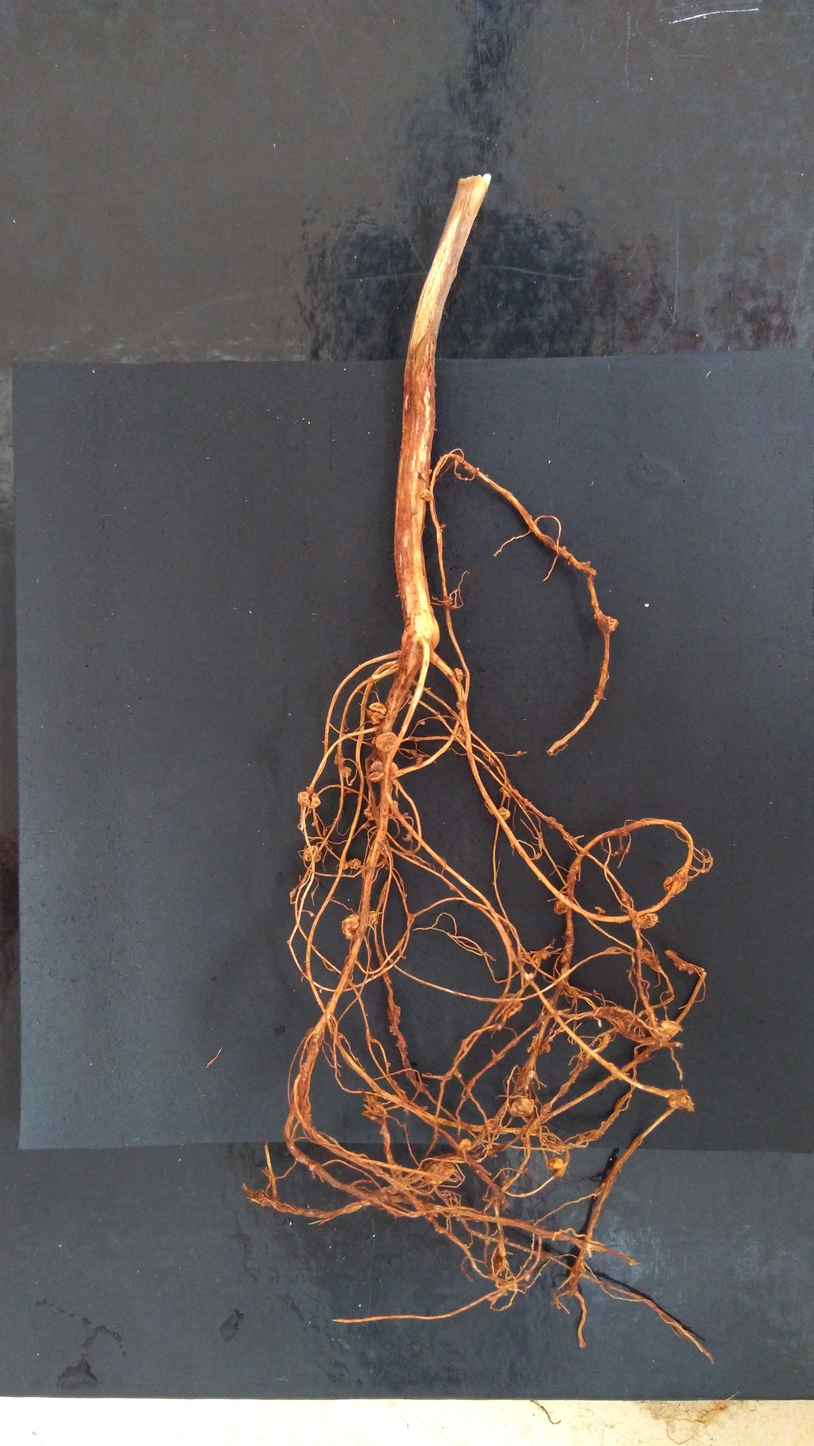nodule: (422, 1161, 456, 1185), (508, 1097, 533, 1117), (341, 914, 360, 940), (375, 731, 398, 752), (500, 997, 523, 1018), (663, 874, 687, 894), (367, 702, 387, 725), (660, 1020, 681, 1041), (491, 1249, 506, 1274), (668, 1091, 688, 1109), (368, 760, 384, 782), (531, 1036, 551, 1052), (637, 913, 658, 928), (304, 845, 321, 863), (364, 805, 380, 821), (554, 896, 568, 914), (307, 792, 321, 809), (547, 1157, 564, 1171), (387, 1005, 401, 1022), (496, 806, 511, 821), (297, 791, 311, 807), (605, 616, 619, 632), (367, 911, 378, 929), (455, 726, 466, 743), (384, 763, 399, 775), (419, 489, 431, 502), (348, 858, 361, 870), (458, 1138, 471, 1150), (499, 786, 512, 797), (524, 1070, 535, 1083), (379, 843, 390, 855), (454, 668, 463, 682), (389, 1024, 399, 1035), (342, 766, 351, 778), (334, 756, 345, 765), (389, 800, 399, 809), (311, 1035, 320, 1043), (524, 1269, 530, 1281), (415, 757, 423, 765), (342, 861, 349, 870), (289, 889, 296, 898), (439, 524, 446, 532), (398, 1088, 406, 1094), (406, 832, 411, 841), (391, 1079, 397, 1086), (484, 1239, 490, 1246), (456, 455, 461, 463), (456, 702, 461, 710), (402, 812, 409, 817), (371, 738, 375, 746), (410, 750, 417, 754), (536, 852, 540, 859), (523, 798, 528, 803), (428, 469, 432, 475), (420, 721, 426, 725), (516, 750, 522, 754), (338, 1035, 344, 1039), (387, 1061, 391, 1066), (464, 477, 468, 481), (311, 822, 315, 826), (458, 1073, 462, 1077), (404, 893, 407, 897), (457, 473, 460, 476), (476, 467, 479, 470), (362, 1068, 365, 1071)
